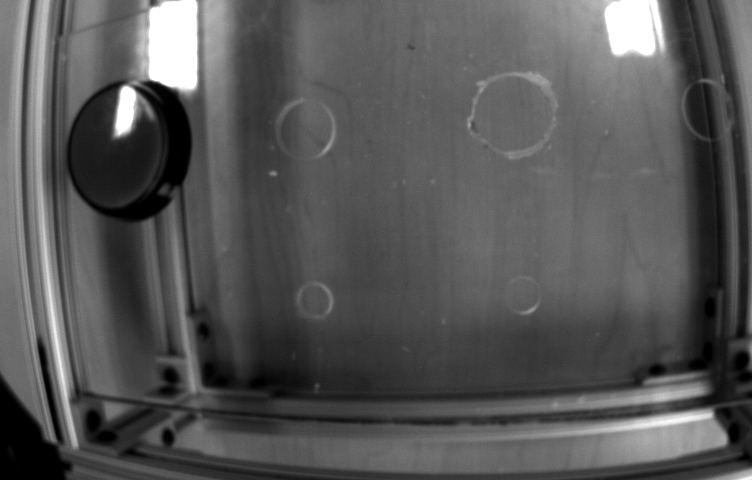big_red_button: (49, 70, 218, 228)
